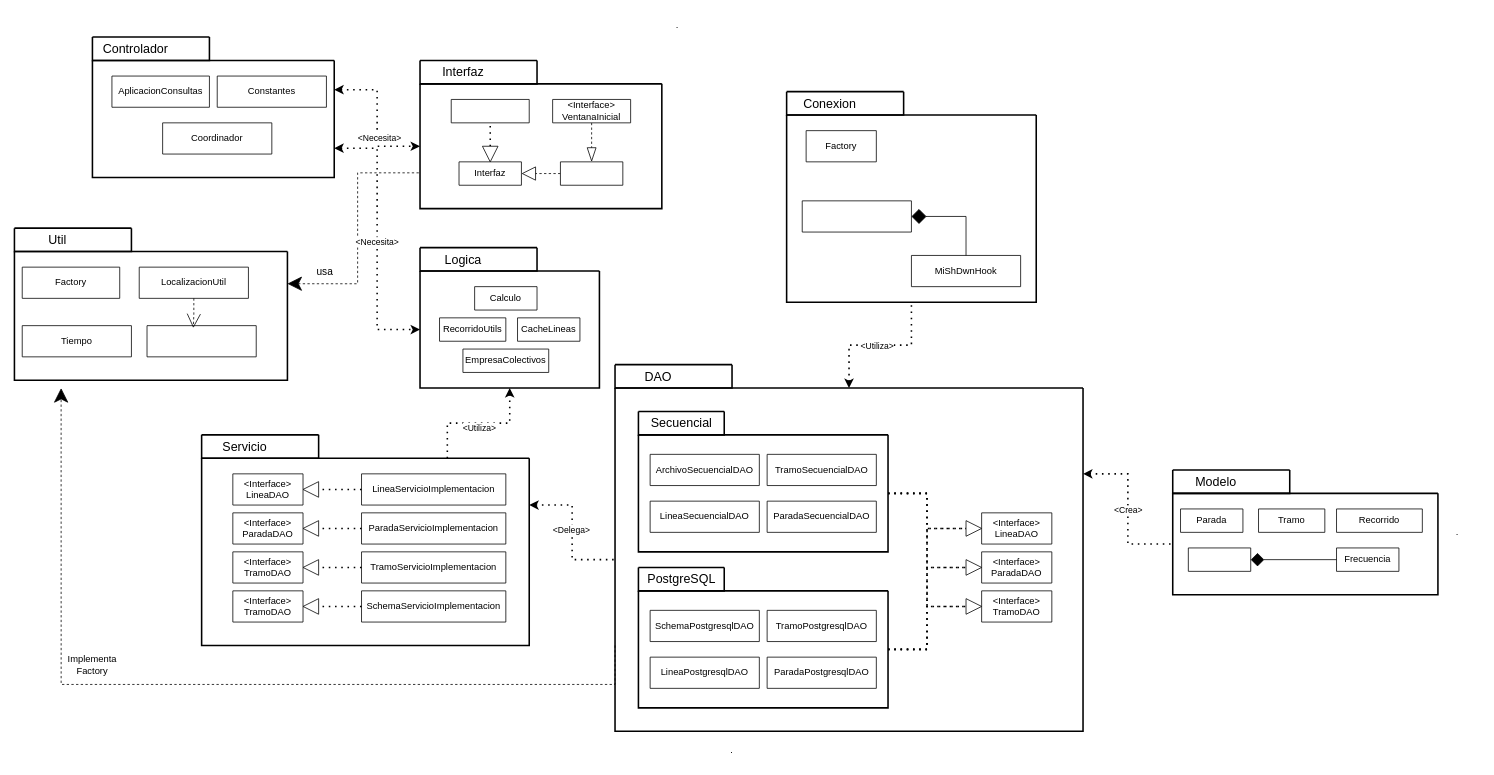
This 1494x775 diagram has some shape labels left out. Each missing label, with the centre of its shape:
<Interface> Mostrable: point (489, 111)
BDConexion: point (856, 216)
Linea: point (1219, 559)
LocalInfo: point (201, 341)
VentanaInicio: point (591, 173)
